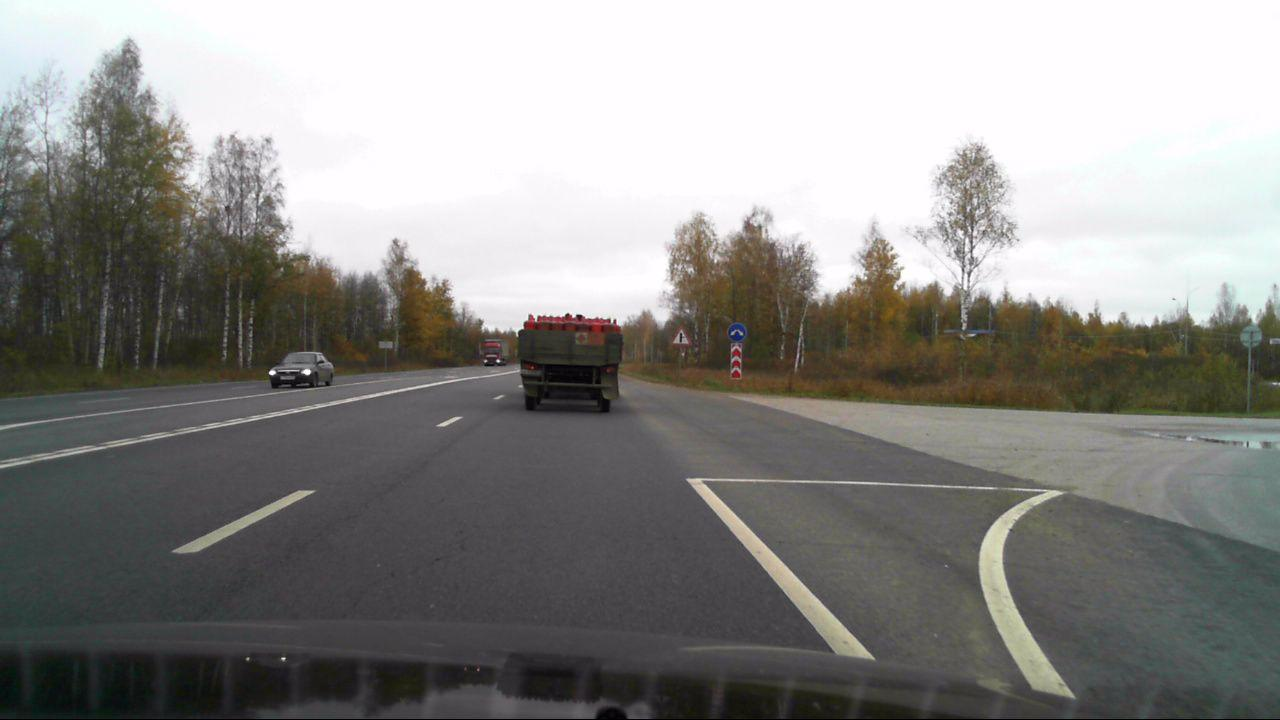road_sign: (669, 325, 692, 346), (730, 342, 743, 379), (727, 323, 746, 342)
